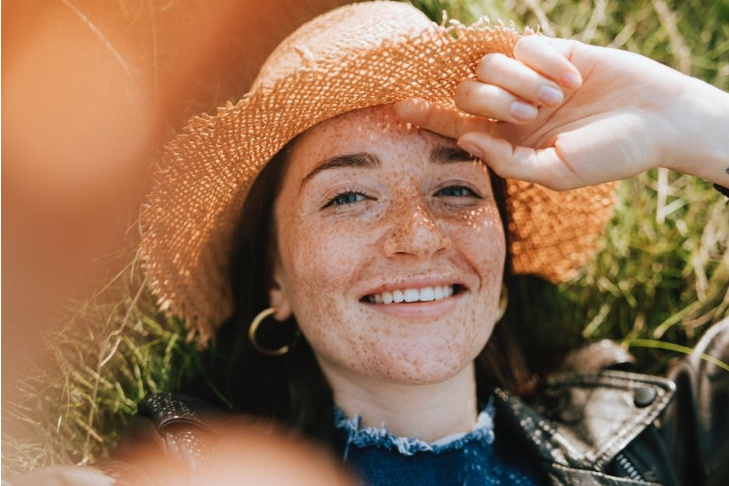face: (293, 110, 507, 381)
